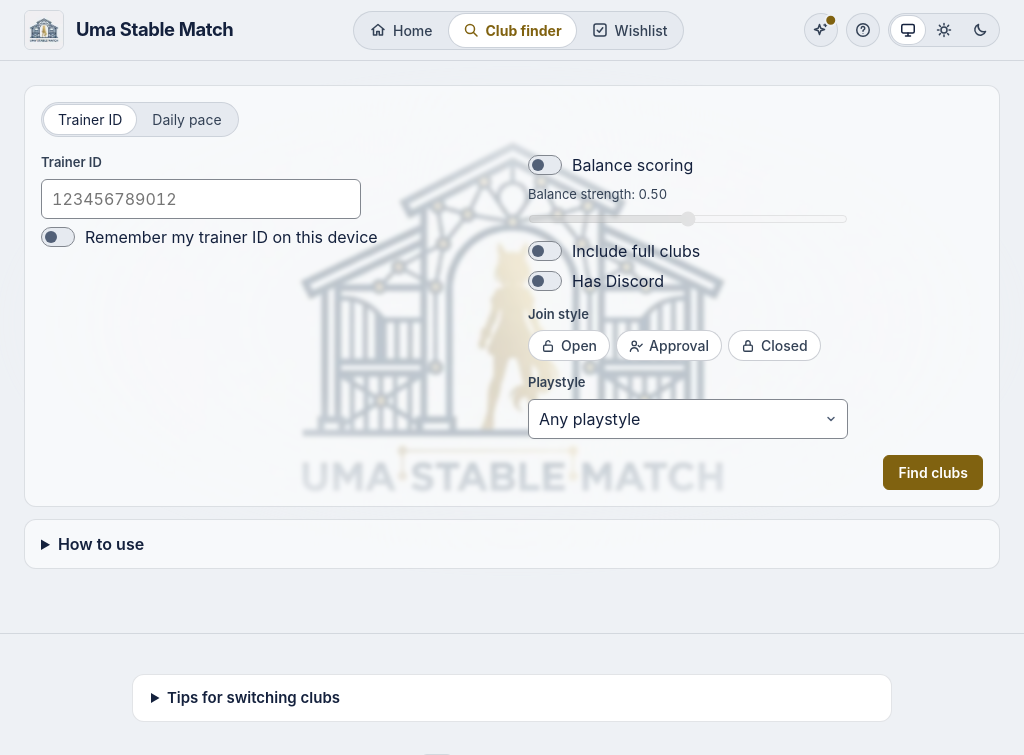
Scenario: App › shows the server error message
Type "123456789" into the field labelled "Trainer ID" at (201, 198), box [41, 178, 361, 218]
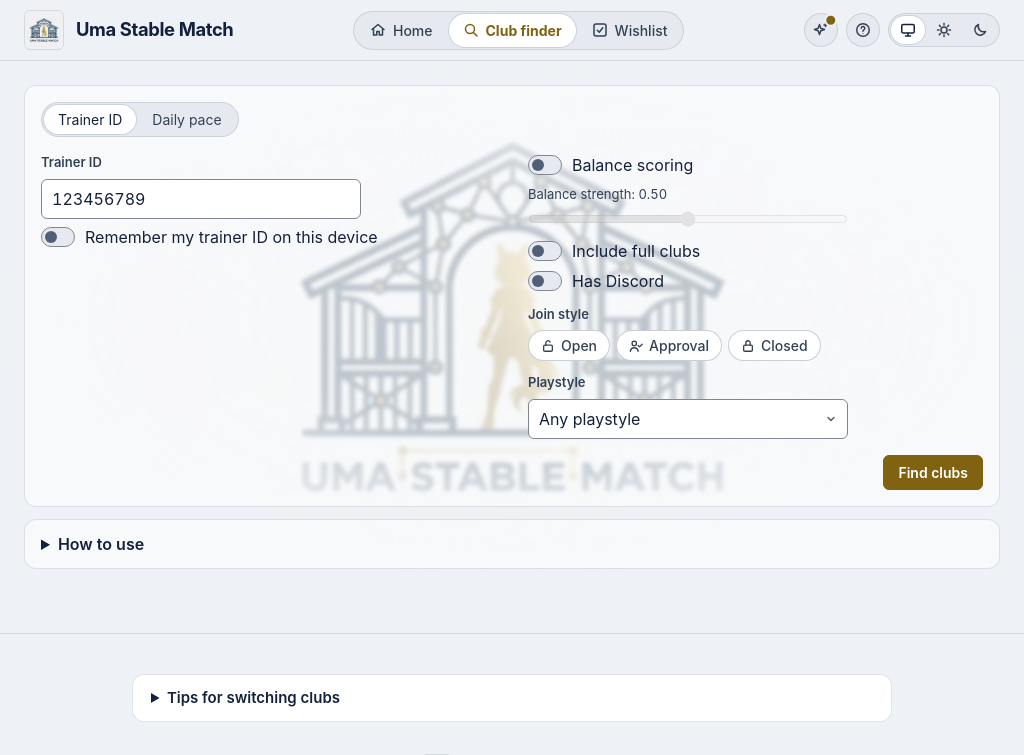
Click the button "Find clubs" at (933, 472), box [884, 454, 983, 490]
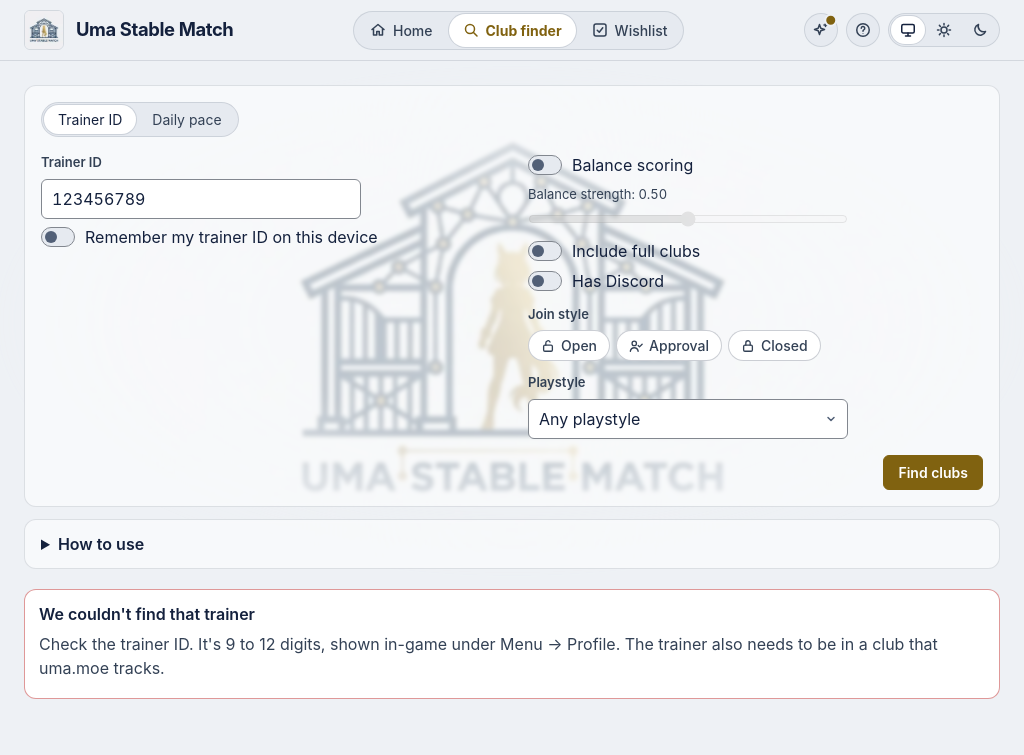
expect the message shows "We couldn't find that trainer": met, box [39, 604, 255, 624]
